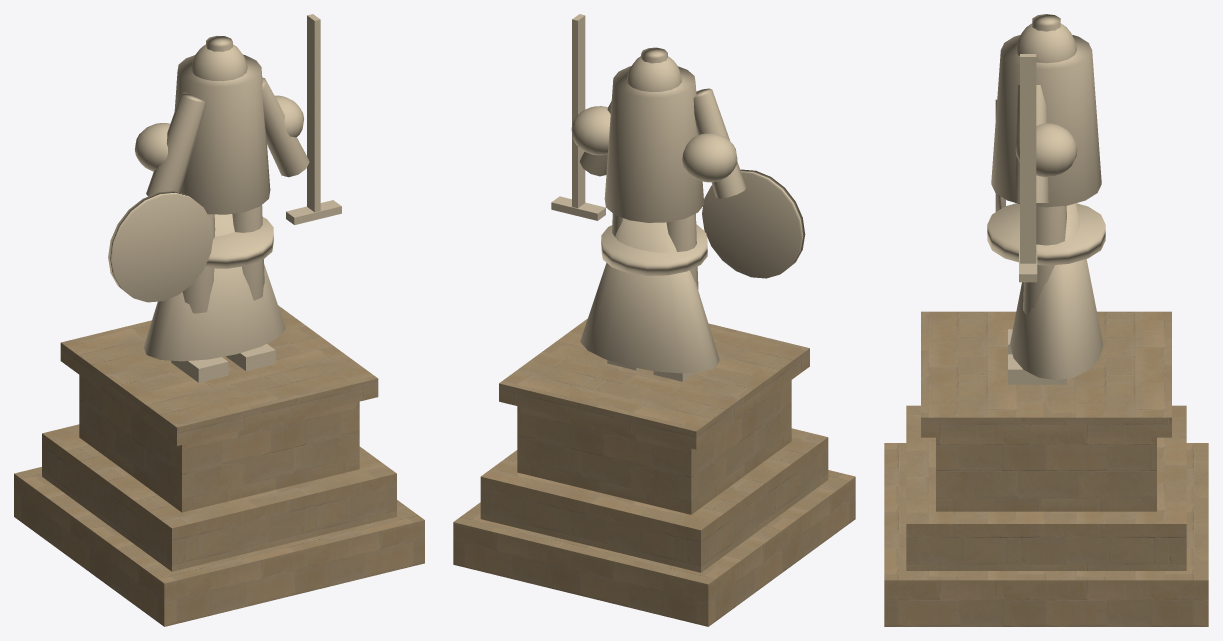
Rendered from hero.glb.
3 renders of one model, left to right at view 1: azimuth 30°, elevation 25°; view 2: azimuth 150°, elevation 25°; view 3: azimuth 270°, elevation 25°, orthographic. The views are drawn at different scales.
Visible parts, largest first — view 1: hero; view 2: hero; view 3: hero.
Part boxes in pixels (x1,y1,x2,y2): hero: [14, 14, 424, 626]; hero: [453, 14, 855, 626]; hero: [884, 14, 1208, 626].
Bounding box in the file's own units: 4.4 × 8.2 × 4.4.
2 materials, 2 textured.
